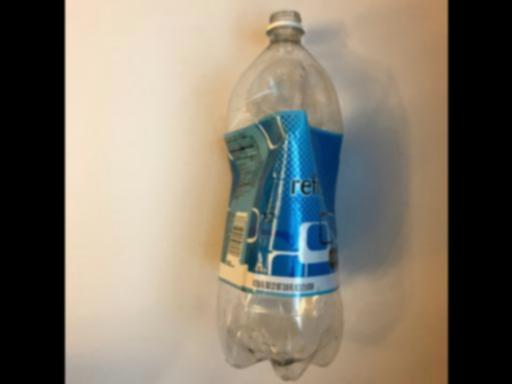PET: (215, 8, 345, 381)
plastic: (215, 8, 345, 381)
soft-drink: (215, 8, 345, 381)
